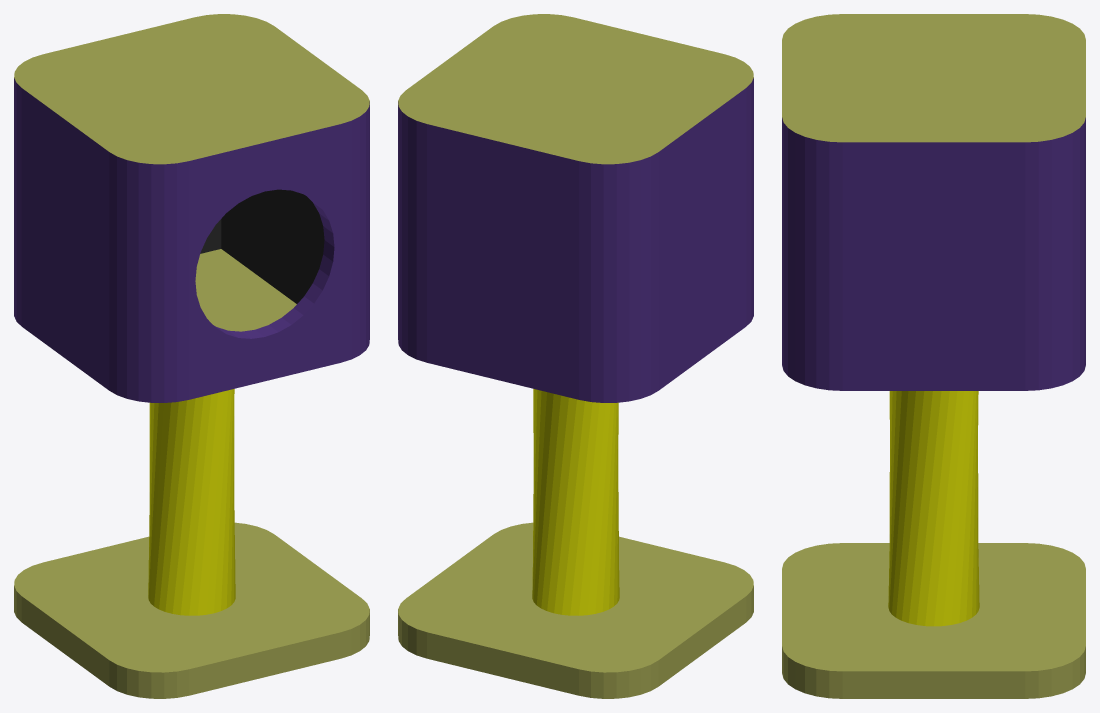
The model's file is catpost.fbx.
3 renders of one model, left to right at view 1: azimuth 30°, elevation 25°; view 2: azimuth 150°, elevation 25°; view 3: azimuth 270°, elevation 25°, orthographic. The views are drawn at different scales.
Parts seen in each view (by area): view 1: Cube; view 2: Cube; view 3: Cube.
Boxes of the visible parts, x1,y1,x2,y2 form: Cube: [14, 14, 369, 698]; Cube: [398, 14, 753, 698]; Cube: [782, 14, 1085, 698].
Bounding box in the file's own units: 200 × 404 × 200.
